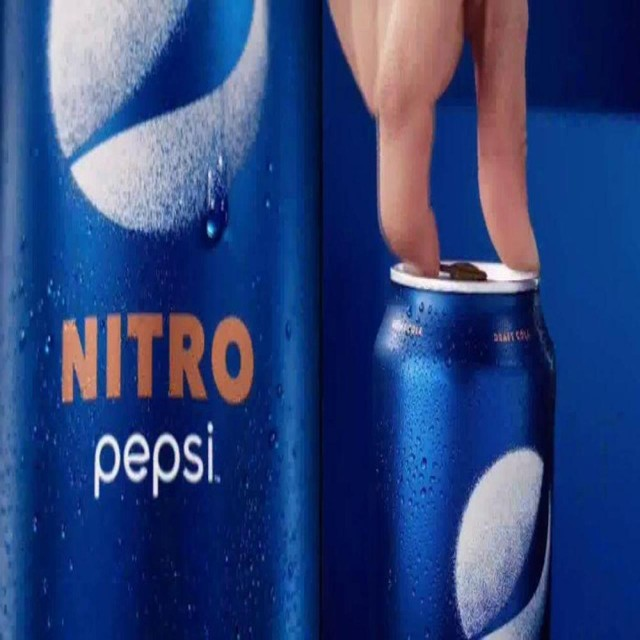pepsi: (91, 416, 217, 508)
